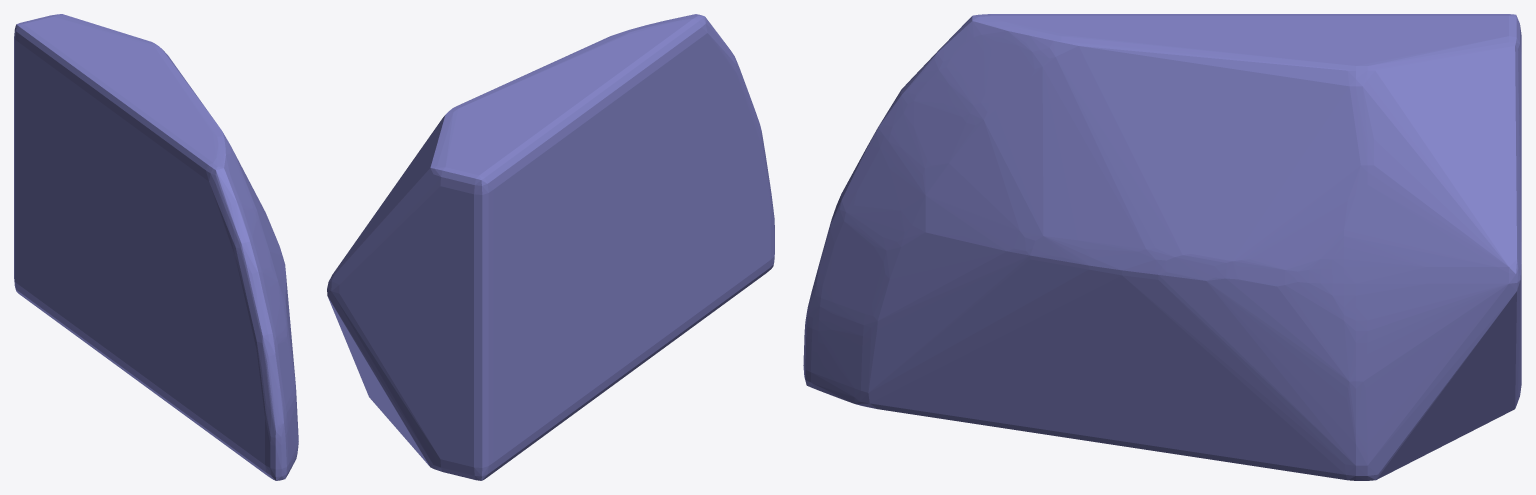
The model's file is left_shoulder_roll_link_part_12.obj.
3 renders of one model, left to right at view 1: azimuth 30°, elevation 25°; view 2: azimuth 150°, elevation 25°; view 3: azimuth 270°, elevation 25°, orthographic. The views are drawn at different scales.
Bounding box in the file's own units: 0.0153 × 0.0249 × 0.044.
